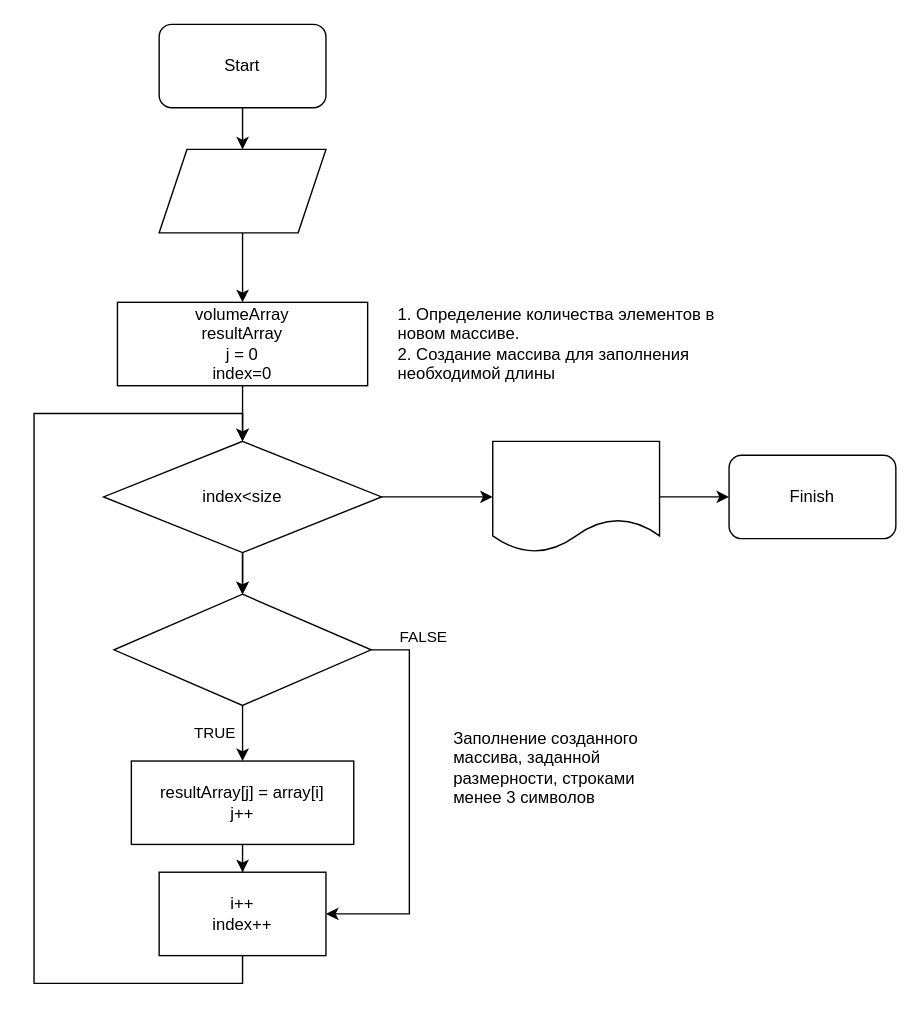
This 920x1019 diagram has some shape labels left out. Here are the shapes that lost their labels. From the top down, the centre of each, then its label:
At [242,190]: "array[size]".
At [575,496]: "resultArray".
At [242,649]: "array[i].Length<=3".
